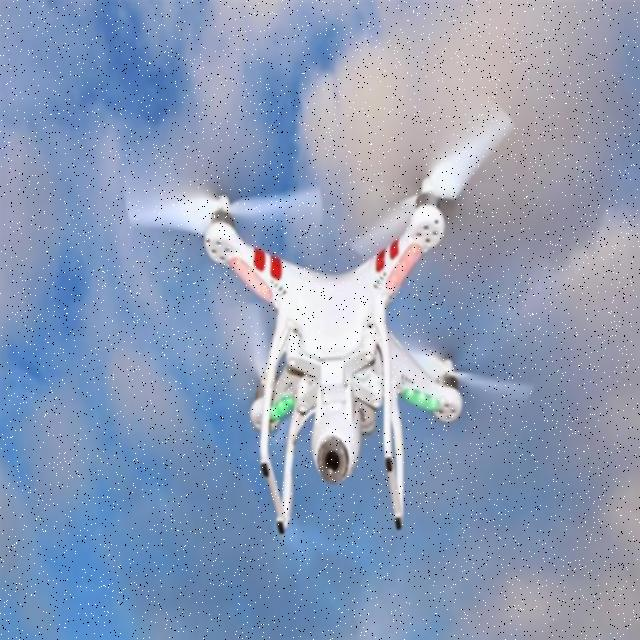UAV: (200, 166, 464, 541)
